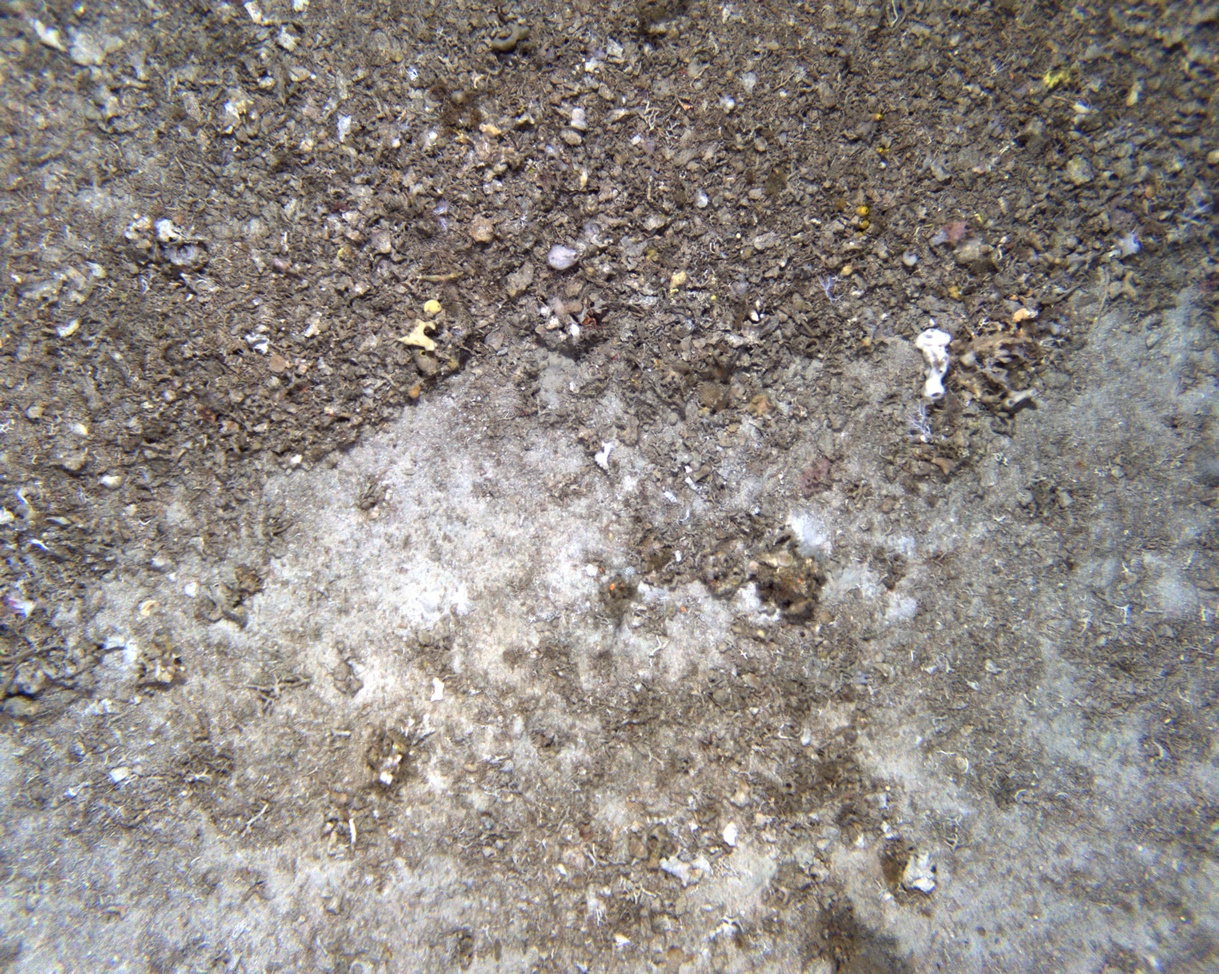Brachionichthyidae: (271, 256, 328, 293)
